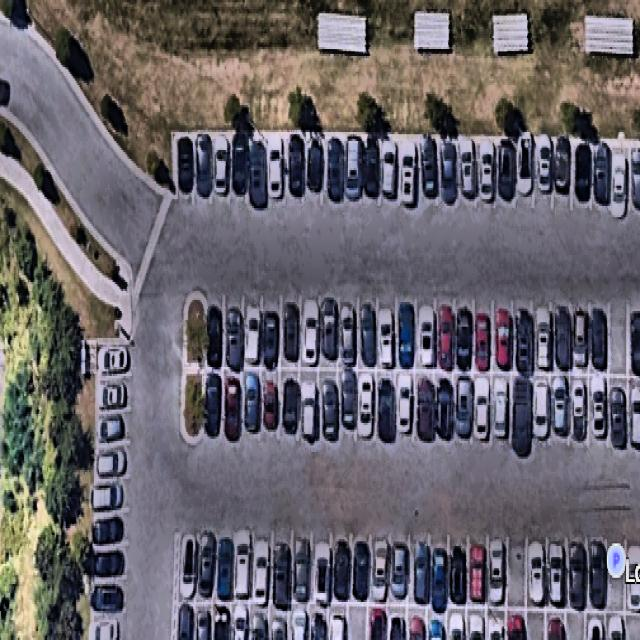Car: (514, 380, 534, 460), (515, 308, 535, 380), (417, 373, 436, 448), (375, 374, 395, 444), (250, 132, 268, 208), (393, 374, 412, 446), (458, 371, 477, 443), (222, 377, 242, 445), (570, 375, 588, 450), (547, 539, 566, 610), (437, 301, 456, 371), (393, 532, 412, 602), (311, 541, 332, 603), (474, 374, 492, 446), (438, 375, 457, 443), (215, 539, 236, 600), (375, 304, 397, 362), (495, 376, 514, 443), (275, 537, 293, 607), (260, 307, 279, 373), (474, 307, 493, 373), (527, 538, 546, 604), (456, 303, 474, 371), (333, 538, 354, 596), (338, 366, 357, 430), (552, 141, 574, 196), (592, 541, 610, 608), (451, 541, 470, 604), (574, 307, 592, 373), (243, 374, 261, 440), (415, 537, 433, 603), (554, 371, 571, 440), (281, 373, 298, 442), (254, 539, 272, 604), (320, 304, 340, 362), (554, 307, 574, 365), (536, 305, 553, 373), (302, 372, 318, 444), (355, 536, 373, 600), (590, 382, 607, 449), (592, 309, 610, 371), (611, 381, 626, 455), (322, 369, 337, 443), (495, 312, 514, 370), (270, 134, 286, 202), (347, 134, 363, 202), (570, 542, 587, 606), (360, 306, 378, 366), (398, 306, 416, 366), (470, 543, 488, 603), (91, 515, 128, 544), (264, 377, 280, 444), (294, 540, 310, 607), (492, 539, 508, 606), (205, 306, 222, 369), (594, 146, 612, 205), (291, 136, 307, 202), (328, 138, 344, 204), (176, 134, 193, 196), (236, 536, 253, 598), (434, 538, 449, 608), (341, 305, 359, 363), (382, 138, 398, 203), (88, 584, 125, 612), (205, 375, 220, 444), (212, 133, 228, 197), (374, 536, 390, 600), (96, 343, 130, 373), (612, 153, 628, 216), (308, 138, 324, 200), (419, 306, 435, 368), (201, 534, 216, 600), (283, 306, 300, 364), (302, 306, 318, 365), (359, 372, 372, 443), (87, 481, 125, 505), (92, 552, 126, 578), (232, 132, 246, 195), (479, 141, 493, 203), (182, 539, 196, 600), (628, 302, 640, 373), (227, 309, 240, 374), (98, 382, 130, 408), (96, 454, 130, 478), (403, 144, 416, 206), (460, 136, 473, 198), (499, 144, 513, 200), (97, 417, 128, 442), (196, 134, 208, 198), (538, 378, 550, 441), (441, 141, 454, 198), (630, 380, 640, 454), (212, 599, 230, 640), (246, 306, 257, 372), (575, 151, 591, 195), (422, 145, 435, 199), (537, 139, 549, 197), (388, 604, 407, 640), (409, 602, 427, 640), (447, 604, 466, 640), (544, 613, 568, 640), (249, 604, 267, 640), (269, 606, 288, 640), (307, 608, 327, 640), (507, 611, 528, 640), (176, 597, 190, 640), (89, 622, 122, 640), (368, 608, 386, 640), (194, 604, 210, 640), (583, 613, 604, 640), (520, 140, 530, 195), (232, 602, 245, 640), (289, 608, 304, 640), (468, 611, 484, 640), (329, 611, 345, 640), (430, 613, 447, 640), (489, 613, 504, 640), (610, 615, 624, 640), (635, 143, 640, 208)
Empty: (608, 536, 628, 616), (608, 309, 630, 378), (508, 534, 526, 609), (345, 597, 367, 640), (527, 606, 551, 640), (566, 611, 587, 640), (622, 611, 640, 640)
